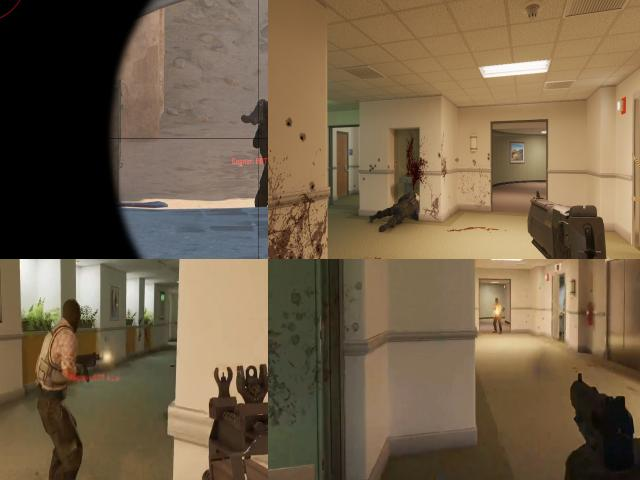CT: (257, 101, 268, 205)
CT-Head: (262, 101, 268, 123)
Dead: (368, 186, 424, 232), (247, 96, 268, 125)
T: (29, 300, 91, 390), (493, 296, 502, 328)
T-Head: (54, 297, 87, 335), (493, 298, 501, 310)
